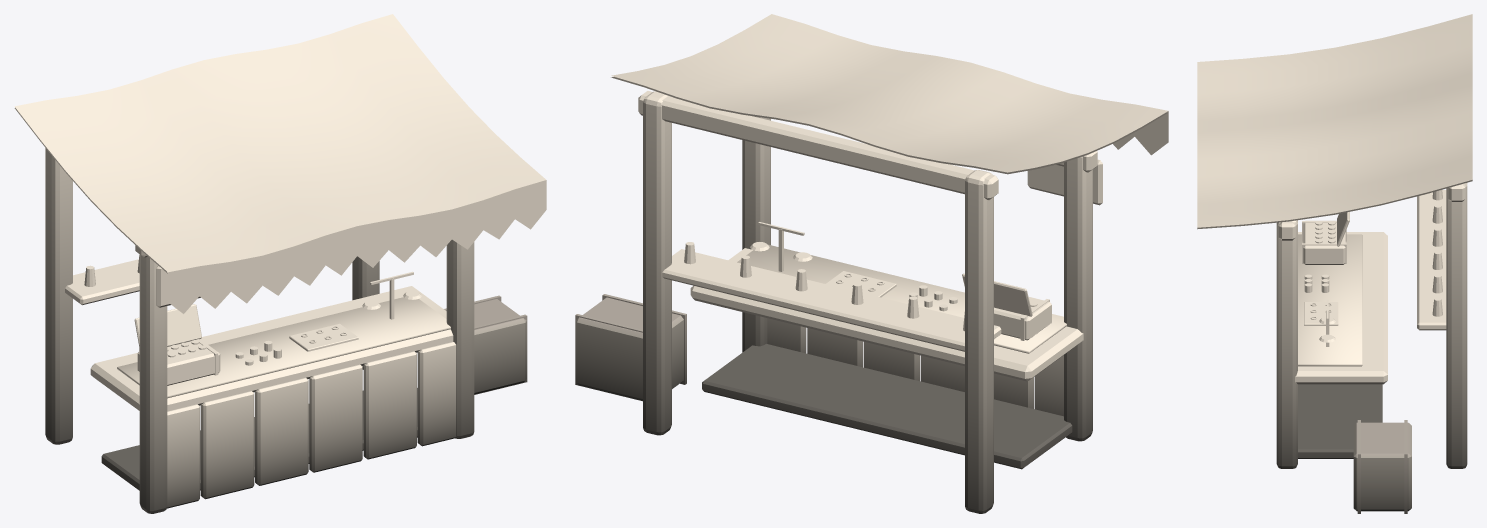
Rendered from SM_VK_MarketStall_Jeweller.fbx.
The picture shows the model from 3 angles, left to right: view 1: azimuth 30°, elevation 25°; view 2: azimuth 150°, elevation 25°; view 3: azimuth 270°, elevation 25°; orthographic projection. The views are drawn at different scales.
Parts seen in each view (by area): view 1: SM_VK_MarketStall_Jeweller.001; view 2: SM_VK_MarketStall_Jeweller.001; view 3: SM_VK_MarketStall_Jeweller.001.
Part boxes in pixels (x1,y1,x2,y2): SM_VK_MarketStall_Jeweller.001: [14, 14, 546, 513]; SM_VK_MarketStall_Jeweller.001: [575, 14, 1168, 513]; SM_VK_MarketStall_Jeweller.001: [1197, 14, 1472, 513].
Size of the model in its own units: 4.39 by 3.16 by 2.6.
